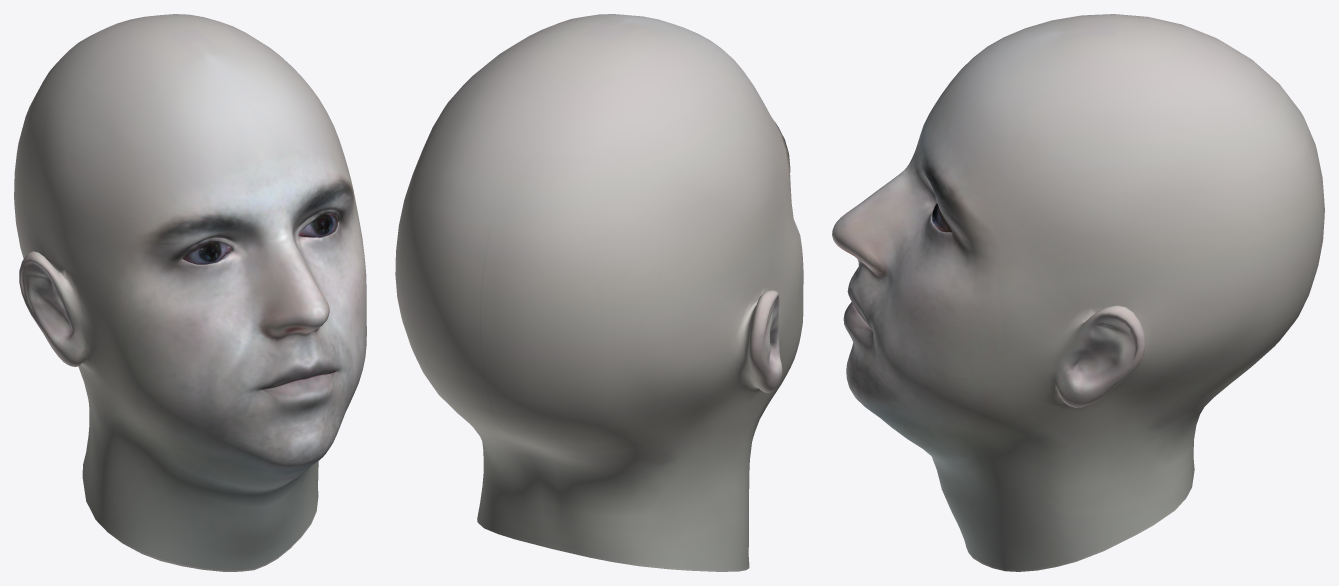
3 views of the same model, side by side, from view 1: azimuth 30°, elevation 25°; view 2: azimuth 150°, elevation 25°; view 3: azimuth 270°, elevation 25° (orthographic). The views are drawn at different scales.
Visible parts, largest first — view 1: skin_hi, eyeR_hi, eyeL_hi; view 2: skin_hi; view 3: skin_hi.
Part boxes in pixels (<box>): skin_hi: <box>14,14,366,571</box>; eyeR_hi: <box>183,241,230,264</box>; eyeL_hi: <box>299,213,337,237</box>; skin_hi: <box>395,14,803,571</box>; skin_hi: <box>832,14,1324,571</box>.
Size of the model in its own units: 190 by 280 by 242.
